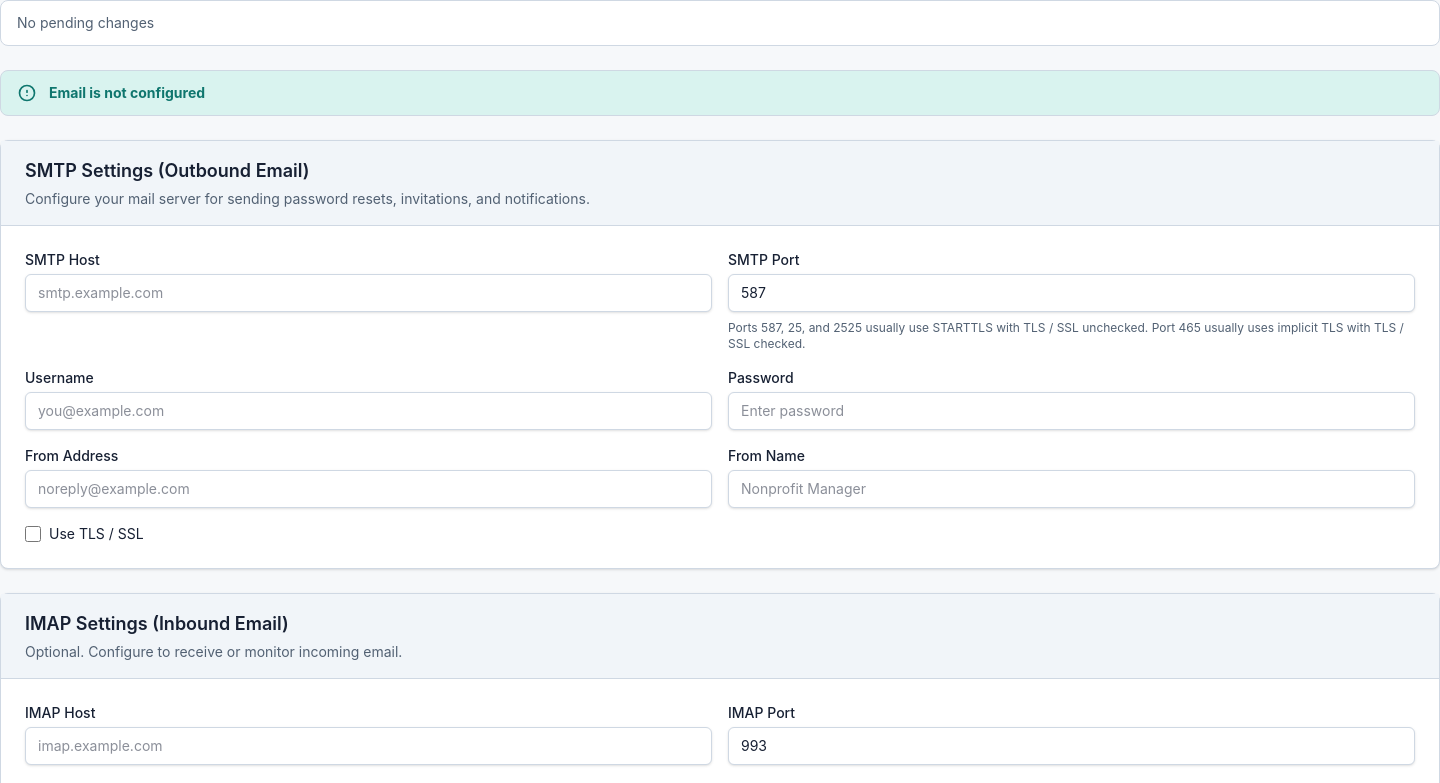
Test: settings section draft preservation › shows non-blocking warnings for risky SMTP port and TLS combinations
Expected: the text "Email is not configured" is shown, [49,84,205,101]
Expected: the text "check this smtp pairing." is not shown
Click the checkbox labelled "Use TLS / SSL".
click(33, 534)  # box [25,526,41,542]
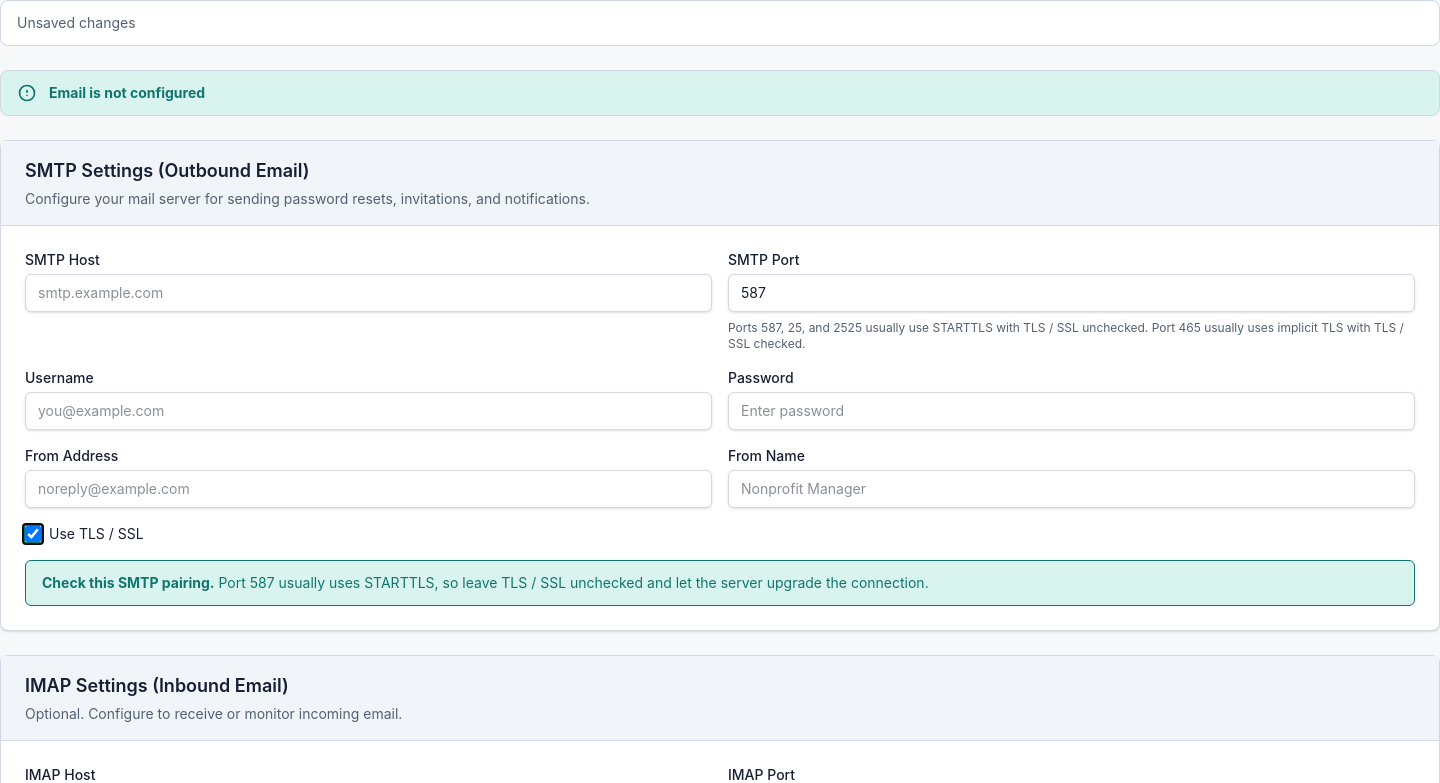
Result: the text "Check this SMTP pairing." is shown at [42,574,214,591]
Result: the text "Port 587 usually uses STARTTLS, so leave TLS / SSL unchecked" is shown at [218,574,929,591]
Click the checkbox labelled "Use TLS / SSL".
click(33, 534)  # box [25,526,41,542]
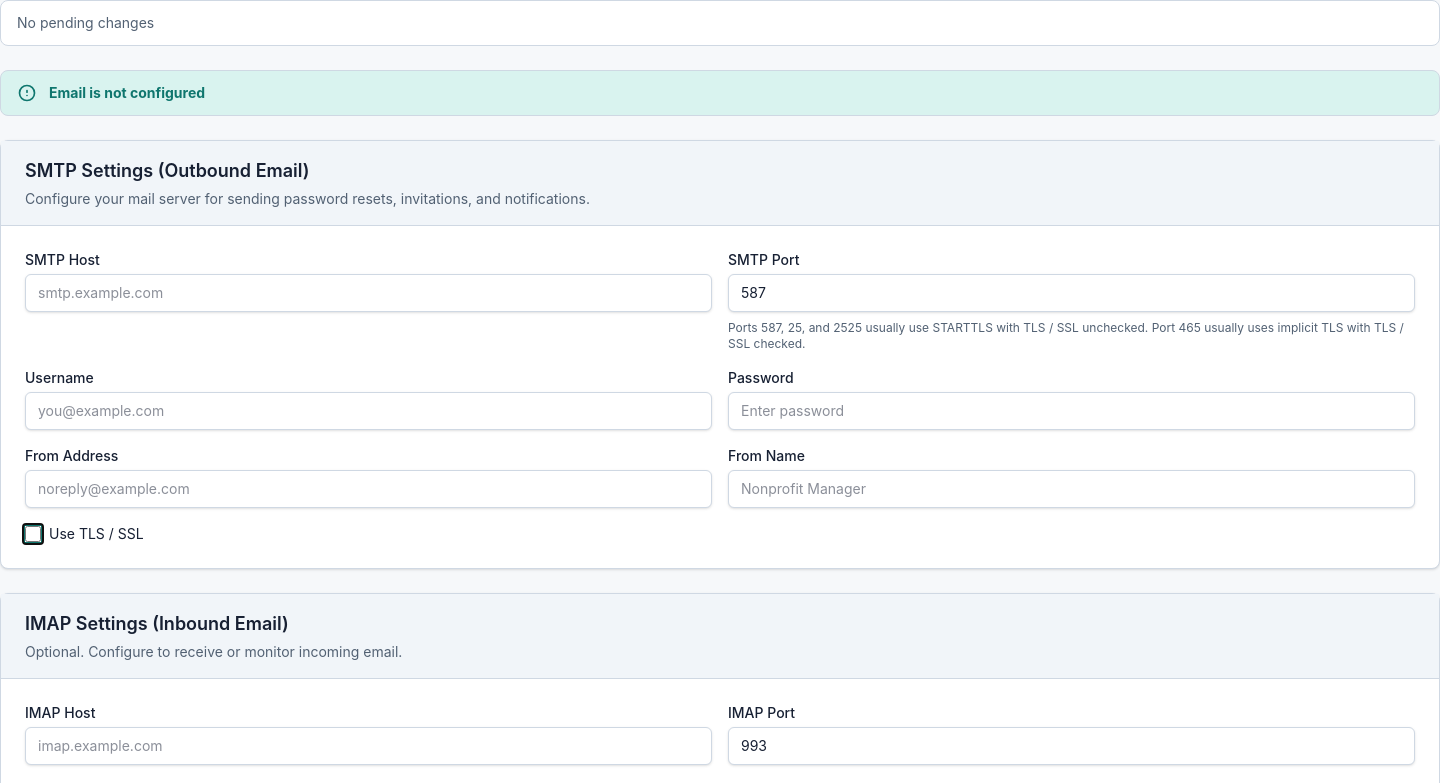
Result: the text "Check this SMTP pairing." is gone
Replace the text in the number field showing "587" with "465" at (1072, 293), box [728,274,1415,312]
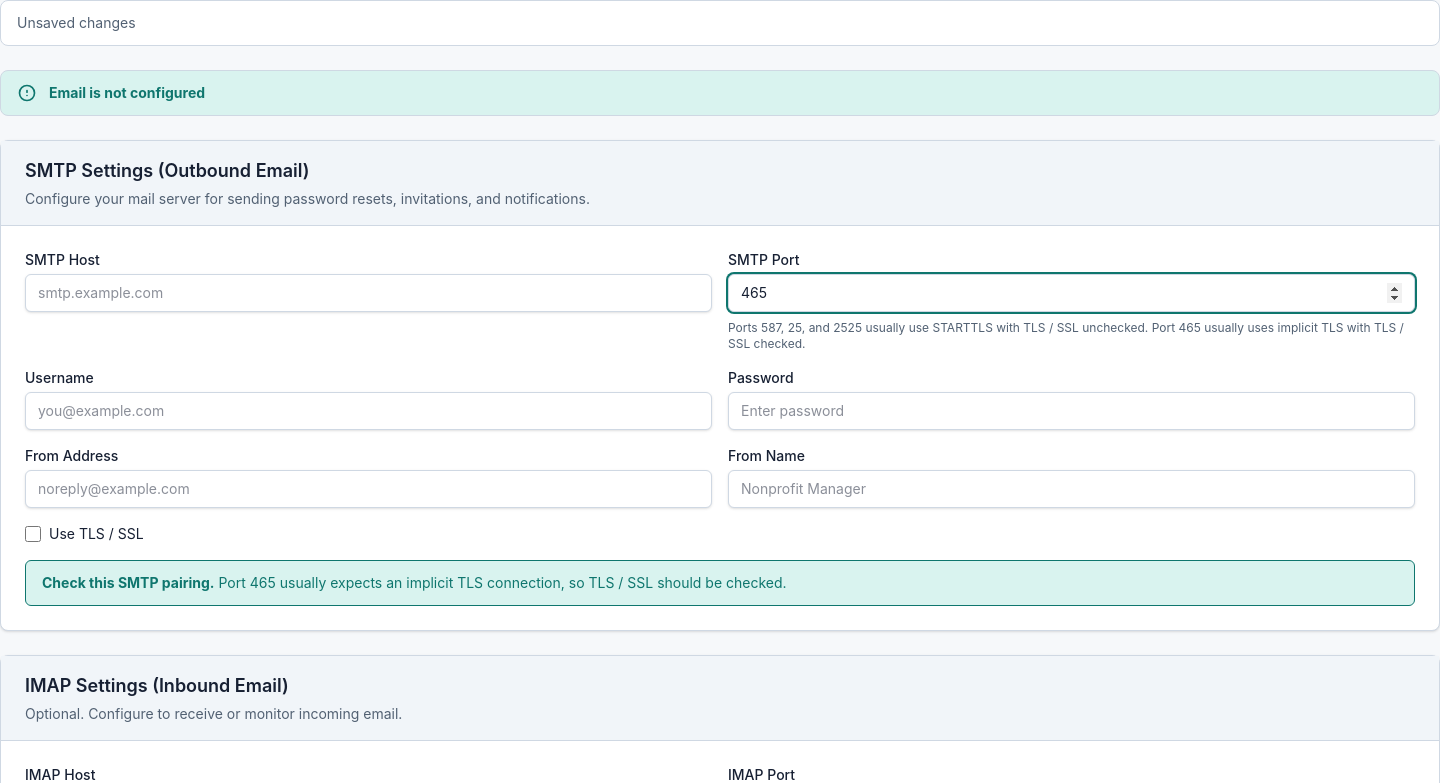
Result: the text "Check this SMTP pairing." is shown at [42,574,214,591]
Result: the text "Port 465 usually expects an implicit TLS connection" is shown at [218,574,787,591]
Click the checkbox labelled "Use TLS / SSL".
click(33, 534)  # box [25,526,41,542]
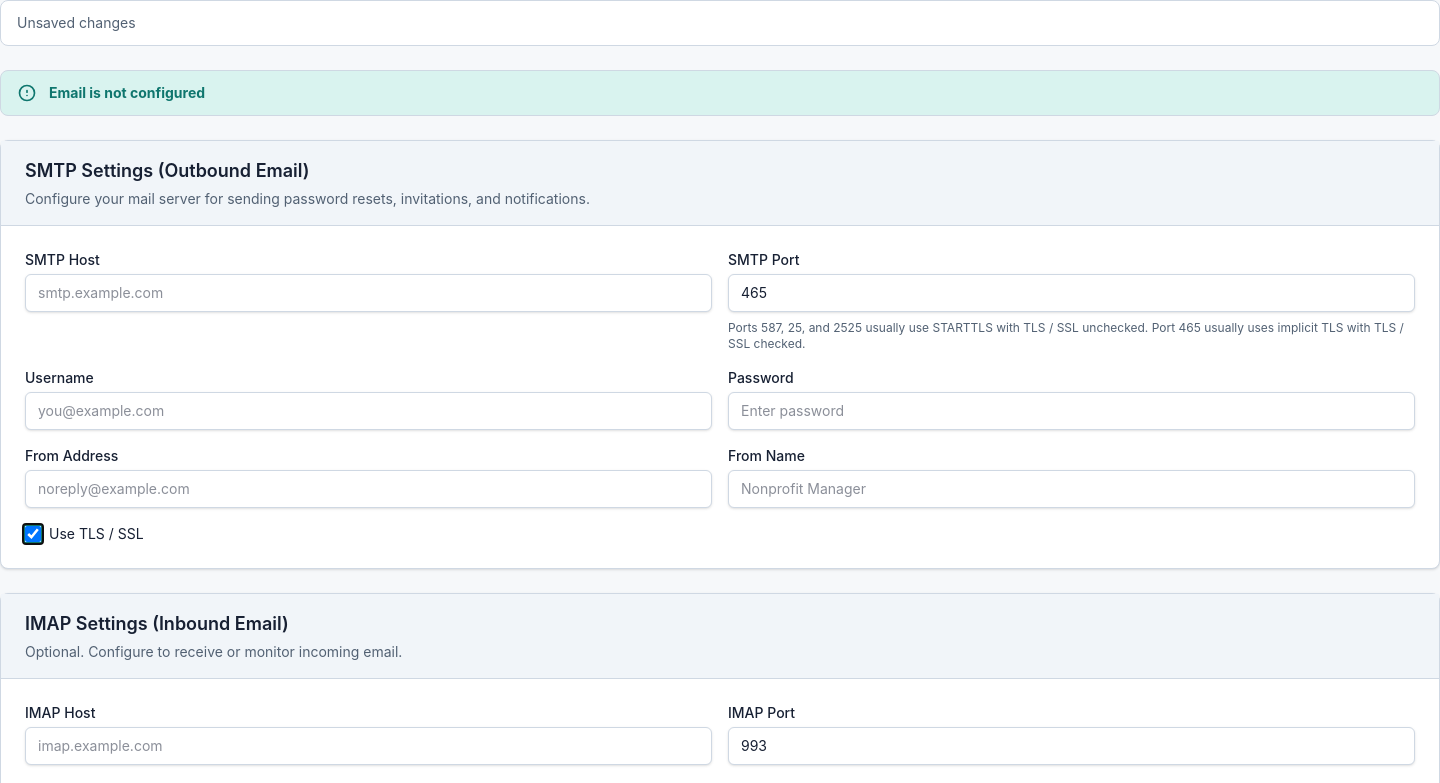
Result: the text "Check this SMTP pairing." is gone
